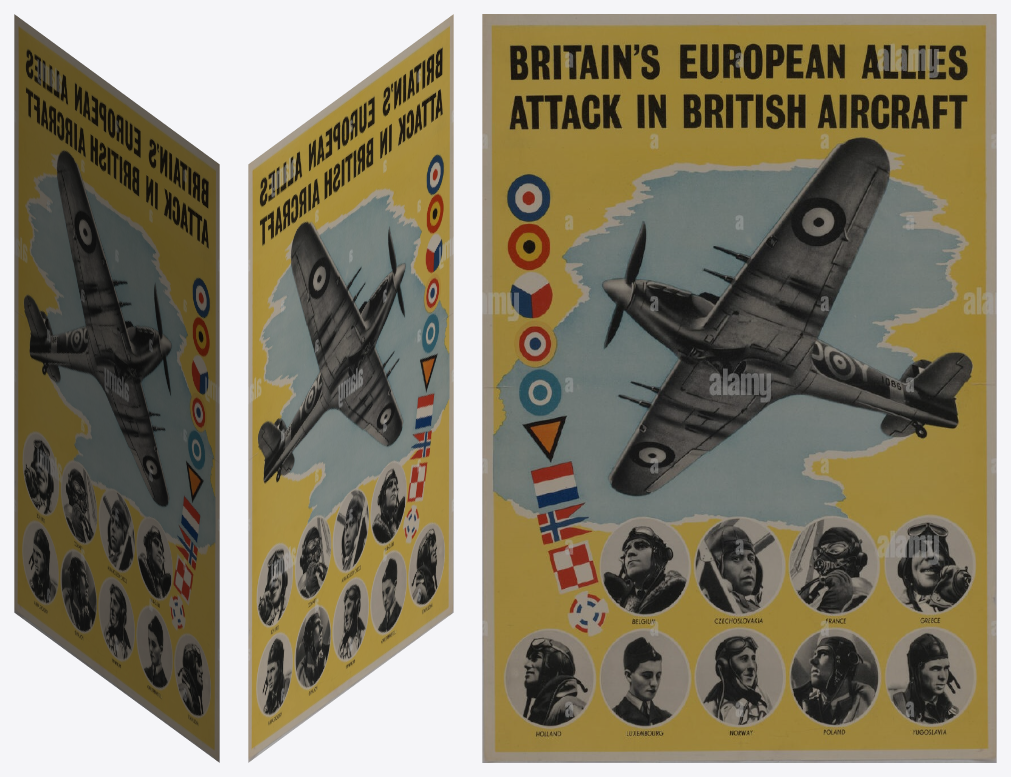
The model's file is Poster.glb.
3 views of the same model, side by side, from view 1: azimuth 30°, elevation 25°; view 2: azimuth 150°, elevation 25°; view 3: azimuth 270°, elevation 25° (orthographic). The views are drawn at different scales.
Visible parts, largest first — view 1: poster_export; view 2: poster_export; view 3: poster_export.
Boxes of the visible parts, x1=… form: poster_export: x1=14, y1=14, x2=219, y2=762; poster_export: x1=248, y1=14, x2=453, y2=762; poster_export: x1=482, y1=14, x2=996, y2=762.
Bounding box in the file's own units: 1.06e-07 × 0.752 × 0.4681.
Materials: 1 (1 with a texture image).
